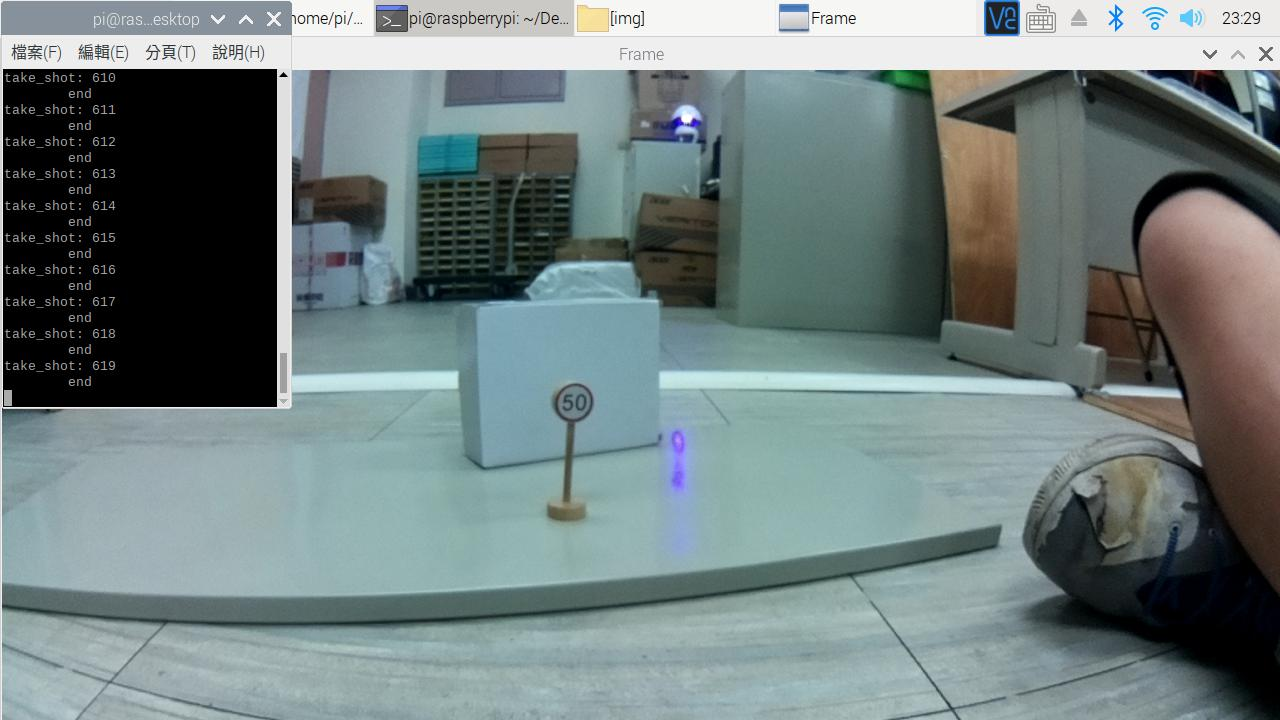Speed50: (547, 377, 599, 427)
